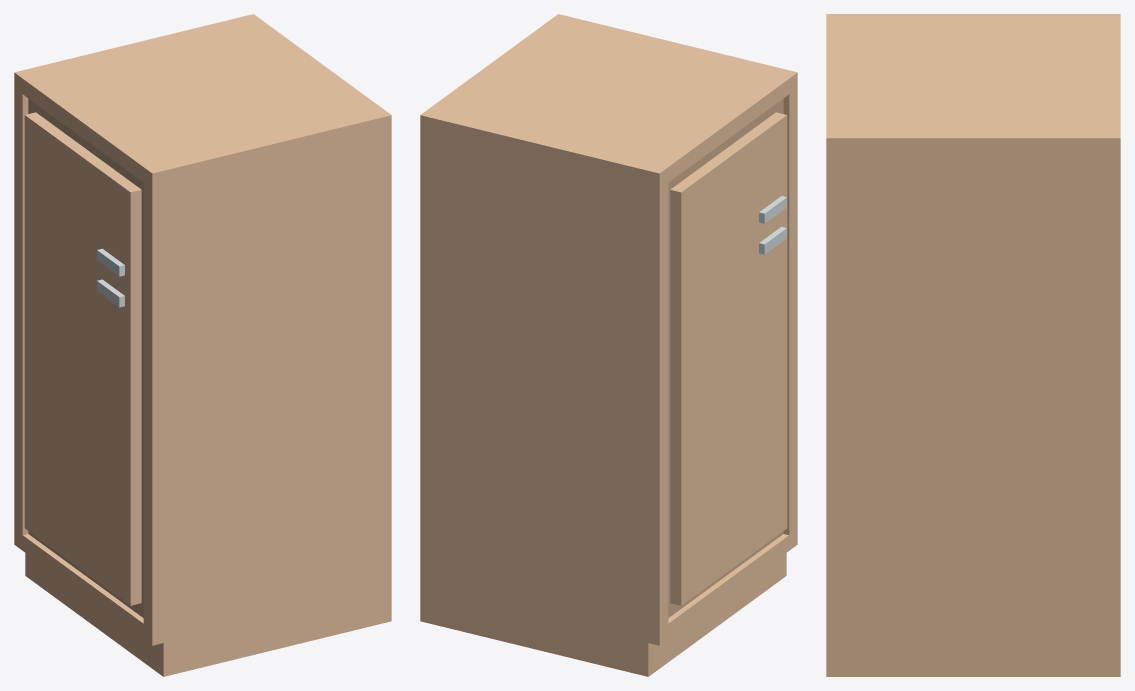
The model's file is kitchenFridgeBuiltIn.fbx.
3 views of the same model, side by side, from view 1: azimuth 30°, elevation 25°; view 2: azimuth 150°, elevation 25°; view 3: azimuth 270°, elevation 25° (orthographic). The views are drawn at different scales.
Visible parts, largest first — view 1: kitchenFridgeBuiltIn, doorFridge.001, doorFreezer.001; view 2: kitchenFridgeBuiltIn, doorFridge.001, doorFreezer.001; view 3: kitchenFridgeBuiltIn.
Boxes of the visible parts, x1,y1,x2,y2 form: kitchenFridgeBuiltIn: [14, 14, 391, 676]; doorFridge.001: [24, 212, 141, 605]; doorFreezer.001: [24, 112, 141, 289]; kitchenFridgeBuiltIn: [420, 14, 797, 676]; doorFridge.001: [670, 212, 787, 605]; doorFreezer.001: [670, 112, 787, 289]; kitchenFridgeBuiltIn: [826, 14, 1120, 676].
Size of the model in its own units: 450 by 869 by 430.
